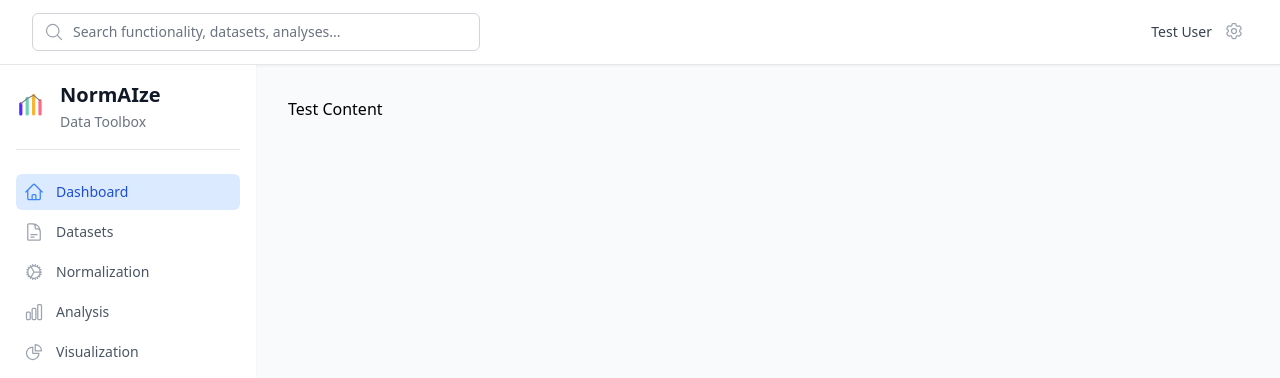
Test: Layout › toggles settings dropdown when settings button is clicked
Expected: the text "Account Settings" is not shown
Click to open dropdown
Click the button: click(1234, 31) [1220, 17, 1248, 45]
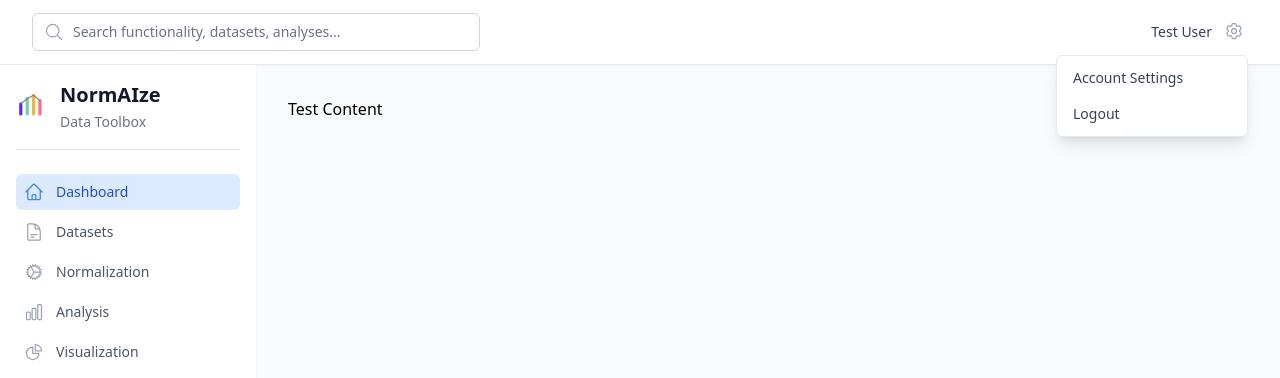
Expected: the button "Account Settings" is shown, [1057, 60, 1247, 96]
Expected: the button "Logout" is shown, [1057, 96, 1247, 132]
Click again to close dropdown
Click the 1st button: click(1234, 31) [1220, 17, 1248, 45]
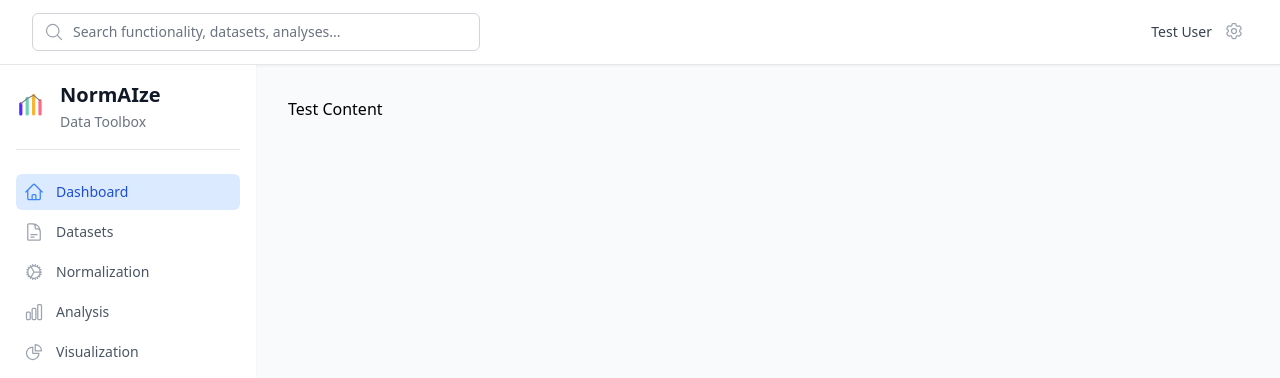
Expected: the button "Account Settings" is gone
